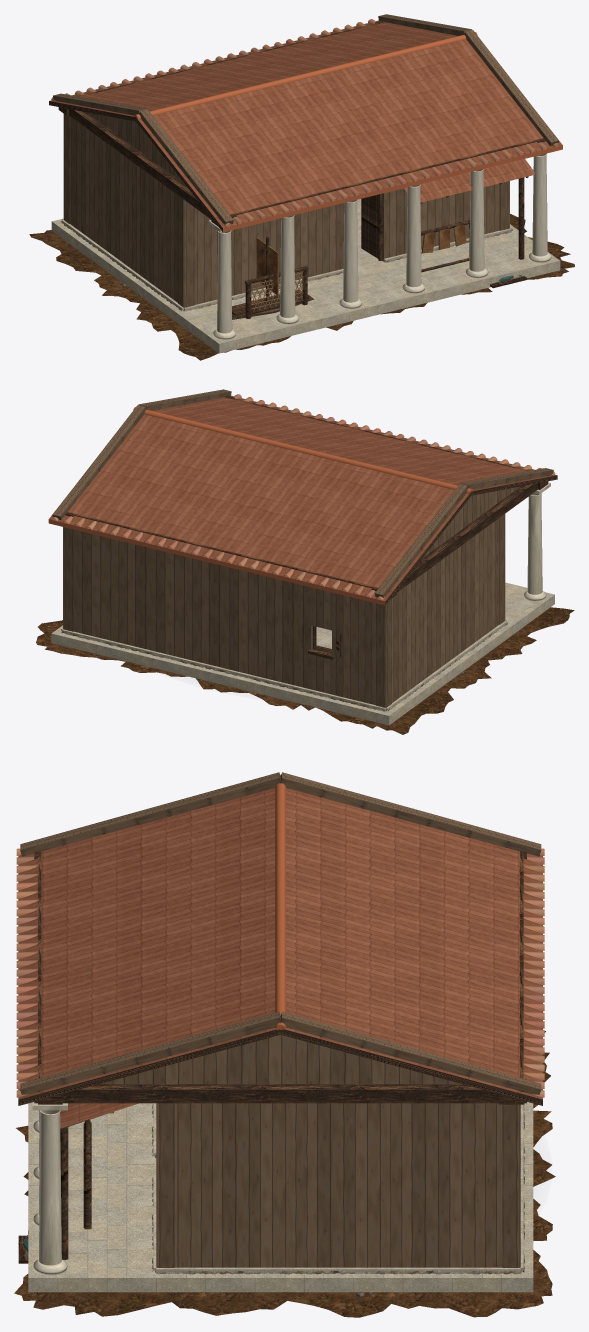
File: fisher@2.glb
The picture shows the model from 3 angles, top to bottom: view 1: azimuth 30°, elevation 25°; view 2: azimuth 150°, elevation 25°; view 3: azimuth 270°, elevation 25°; orthographic projection. The views are drawn at different scales.
Visible parts, largest first — view 1: part_14, part_6, part_5, part_15, part_7, part_16, part_1, part_17, part_18, part_11, part_10, part_4; view 2: part_14, part_6, part_5, part_1, part_16, part_7, part_17, part_18, part_15, part_4; view 3: part_14, part_6, part_5, part_7, part_16, part_1, part_18, part_15, part_17, part_4.
Part boxes in pixels (<box>): part_14: <box>50,20,562,227</box>; part_6: <box>63,112,509,307</box>; part_5: <box>51,199,560,353</box>; part_15: <box>208,153,551,340</box>; part_7: <box>49,20,546,319</box>; part_16: <box>53,14,558,224</box>; part_1: <box>29,214,574,360</box>; part_17: <box>134,32,562,232</box>; part_18: <box>51,19,560,227</box>; part_11: <box>256,225,466,295</box>; part_10: <box>251,270,303,311</box>; part_4: <box>61,221,512,311</box>; part_14: <box>49,395,556,601</box>; part_6: <box>63,486,519,707</box>; part_5: <box>51,582,554,725</box>; part_1: <box>36,607,574,734</box>; part_16: <box>52,389,553,597</box>; part_7: <box>65,395,557,659</box>; part_17: <box>48,407,473,605</box>; part_18: <box>51,394,555,600</box>; part_15: <box>524,482,550,601</box>; part_4: <box>61,622,507,711</box>; part_14: <box>18,788,542,1128</box>; part_6: <box>99,1035,520,1267</box>; part_5: <box>28,1102,533,1292</box>; part_7: <box>18,851,542,1259</box>; part_16: <box>20,772,541,1094</box>; part_1: <box>14,1031,555,1317</box>; part_18: <box>16,848,544,1097</box>; part_15: <box>32,1102,67,1275</box>; part_17: <box>275,774,285,1029</box>; part_4: <box>152,1103,524,1274</box>.
Bounding box in the file's own units: 7.82 × 3.44 × 6.32.
Materials: 19 (14 with a texture image).
